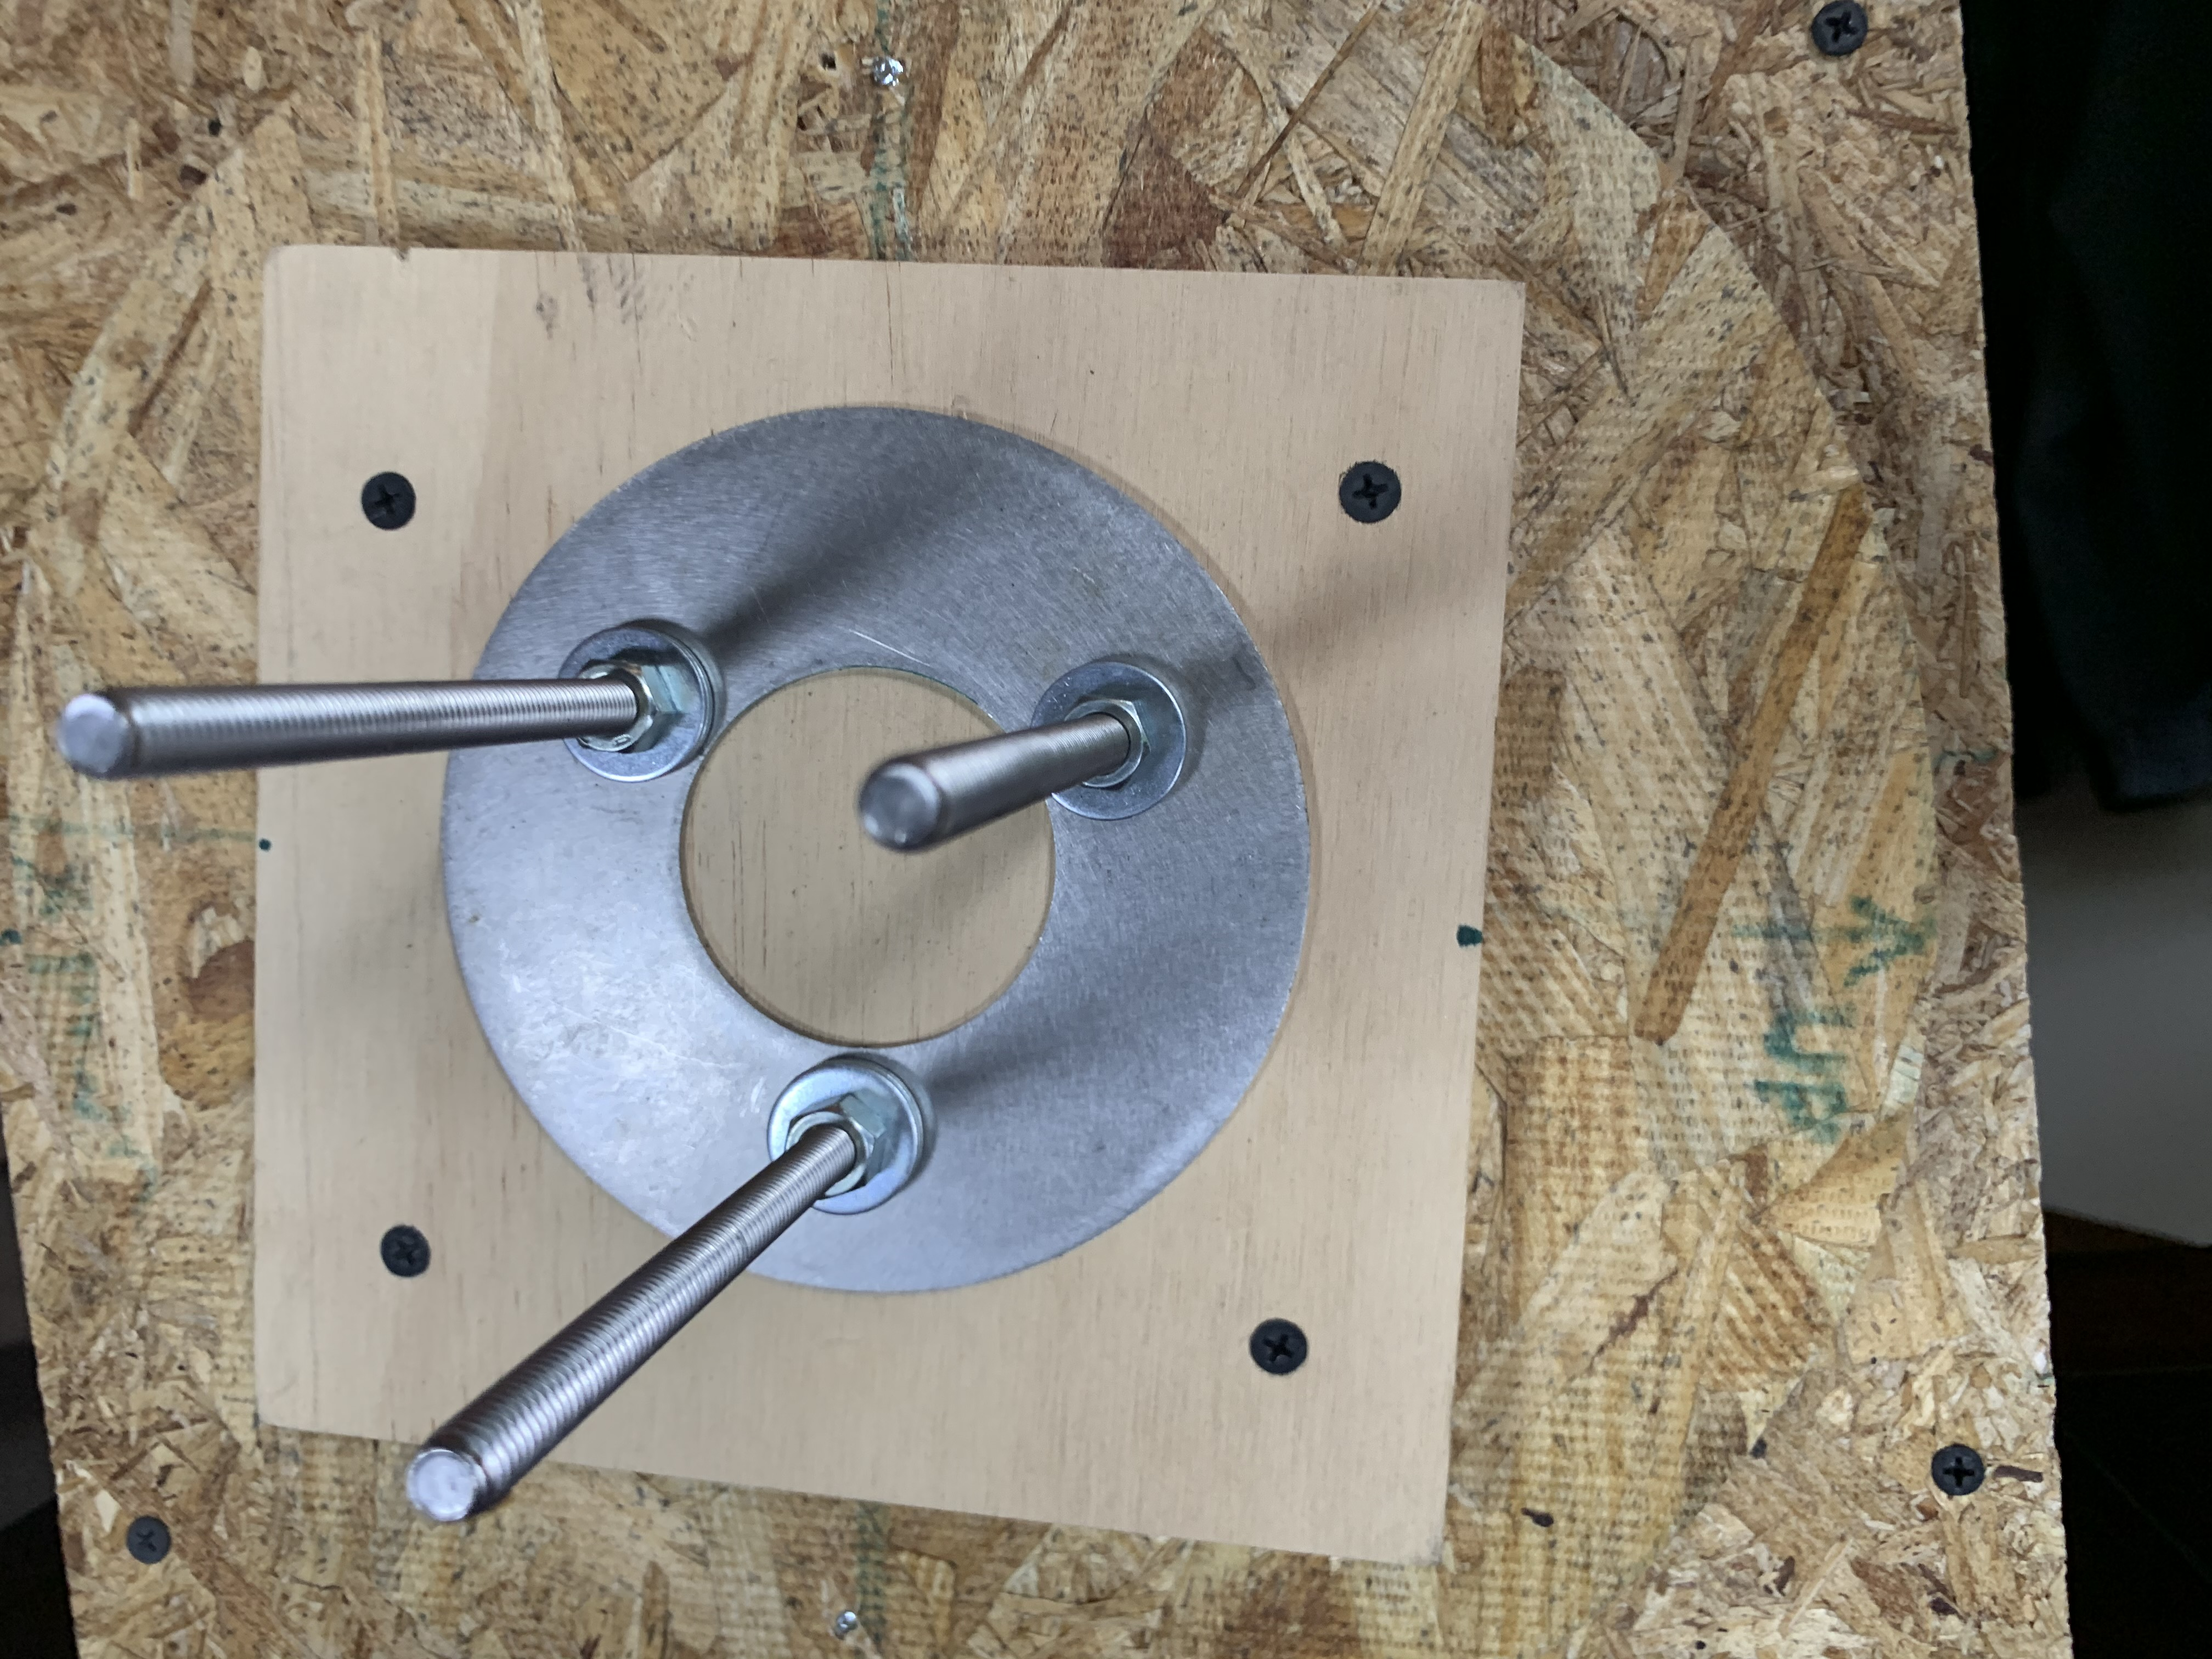bolt: (1028, 653, 1195, 823), (554, 622, 725, 784), (761, 1054, 932, 1215)
